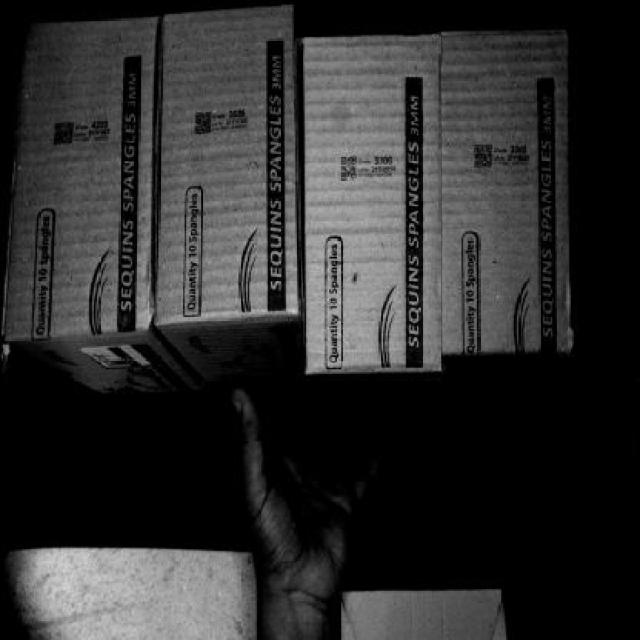cardboxes: (7, 4, 151, 336), (305, 40, 441, 380), (444, 34, 578, 349), (168, 4, 298, 324)
